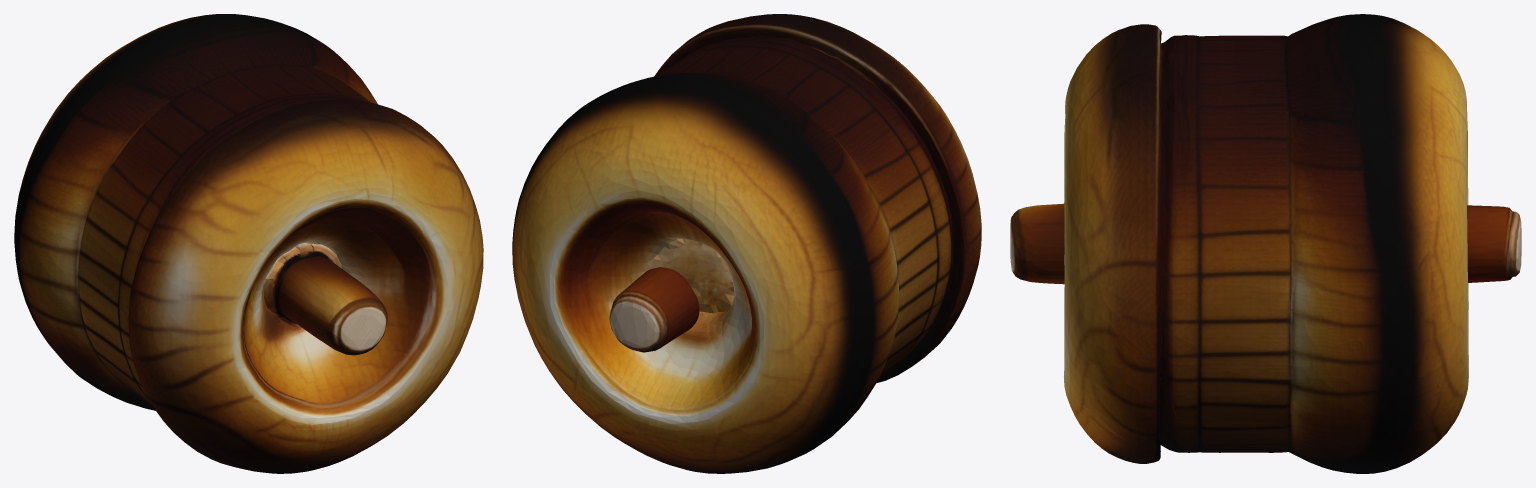
The model's file is wooden-yoyo-vintage.jpeg.glb.
3 views of the same model, side by side, from view 1: azimuth 30°, elevation 25°; view 2: azimuth 150°, elevation 25°; view 3: azimuth 270°, elevation 25° (orthographic). The views are drawn at different scales.
Parts seen in each view (by area): view 1: world; view 2: world; view 3: world.
Boxes of the visible parts, left/top/right/bottom form: world: left=14, top=14, right=483, bottom=473; world: left=512, top=14, right=981, bottom=473; world: left=1010, top=14, right=1521, bottom=473.
Size of the model in its own units: 0.8928 by 0.8934 by 0.983.
1 material, 1 textured.
